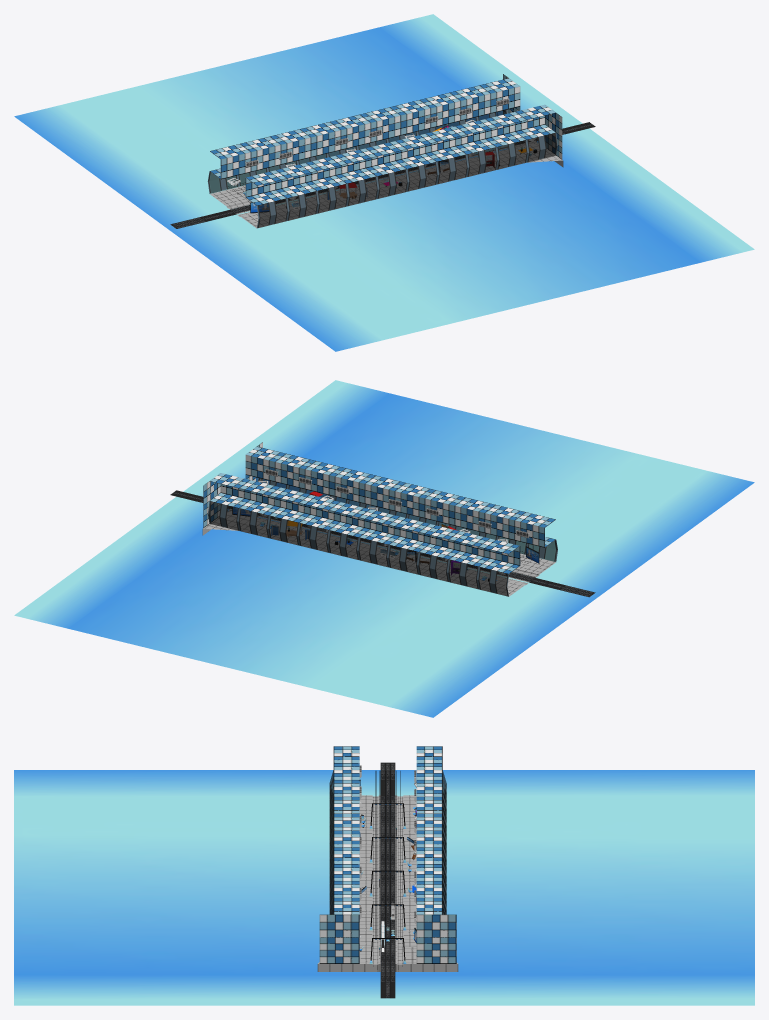
Rendered from subwaysurferstest64.glb.
3 renders of one model, top to bottom at view 1: azimuth 30°, elevation 25°; view 2: azimuth 150°, elevation 25°; view 3: azimuth 270°, elevation 25°, orthographic. The views are drawn at different scales.
Parts seen in each view (by area): view 1: Water, tiledwall.017, tiledwall.023, tiledwall.010, tiledwall.015, tiledwall.016, tiledwall.005, tiledwall.011, tiledwall.006, tiledwall.014, tiledwall, tiledwall.003 (+19 smaller); view 2: Water, tiledwall.023, tiledwall.020, tiledwall.007, tiledwall.012, tiledwall.009, tiledwall.019, tiledwall.013, tiledwall.018, tiledwall.021, tiledwall.022, tiledwall.017 (+19 smaller); view 3: Water, tiledwall.004, tiledwall.008, tiledwall.002, tiledwall.001, tile.015, tile.003, ElectricityPole.002, tiledwall, tiledwall.010, tiledwall.014, tiledwall.007 (+20 smaller).
Part boxes in pixels (left/top/right/bottom): Water: left=14, top=14, right=754, bottom=351; tiledwall.017: left=245, top=170, right=286, bottom=205; tiledwall.023: left=210, top=144, right=250, bottom=179; tiledwall.010: left=395, top=134, right=435, bottom=169; tiledwall.015: left=305, top=155, right=346, bottom=190; tiledwall.016: left=275, top=163, right=316, bottom=198; tiledwall.005: left=455, top=119, right=495, bottom=154; tiledwall.011: left=365, top=141, right=405, bottom=176; tiledwall.006: left=425, top=126, right=465, bottom=161; tiledwall.014: left=335, top=148, right=375, bottom=183; tiledwall: left=515, top=104, right=555, bottom=139; tiledwall.003: left=485, top=112, right=525, bottom=147; Water: left=14, top=380, right=754, bottom=717; tiledwall.023: left=479, top=538, right=520, bottom=573; tiledwall.020: left=389, top=516, right=430, bottom=551; tiledwall.007: left=210, top=473, right=250, bottom=508; tiledwall.012: left=270, top=487, right=310, bottom=522; tiledwall.009: left=240, top=480, right=280, bottom=515; tiledwall.019: left=359, top=509, right=400, bottom=544; tiledwall.013: left=300, top=495, right=340, bottom=530; tiledwall.018: left=330, top=502, right=370, bottom=537; tiledwall.021: left=419, top=524, right=460, bottom=559; tiledwall.022: left=449, top=531, right=490, bottom=566; tiledwall.017: left=515, top=512, right=555, bottom=547; Water: left=14, top=770, right=754, bottom=1005; tiledwall.004: left=319, top=937, right=359, bottom=963; tiledwall.008: left=416, top=937, right=456, bottom=963; tiledwall.002: left=416, top=914, right=456, bottom=937; tiledwall.001: left=319, top=914, right=359, bottom=937; tile.015: left=403, top=947, right=458, bottom=971; tile.003: left=317, top=947, right=372, bottom=971; ElectricityPole.002: left=369, top=838, right=406, bottom=896; tiledwall: left=333, top=897, right=359, bottom=914; tiledwall.010: left=333, top=830, right=359, bottom=847; tiledwall.014: left=333, top=796, right=359, bottom=813; tiledwall.007: left=416, top=897, right=442, bottom=914.
Bounding box in the file's own units: 562 × 67.5 × 744.
Materials: 8 (8 with a texture image).
